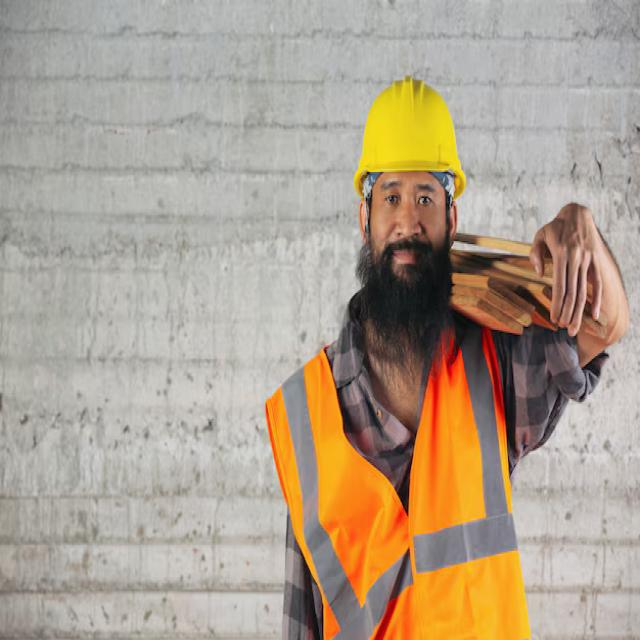Hard Hat: (352, 62, 481, 202)
Reflective Vest: (256, 308, 542, 640)
